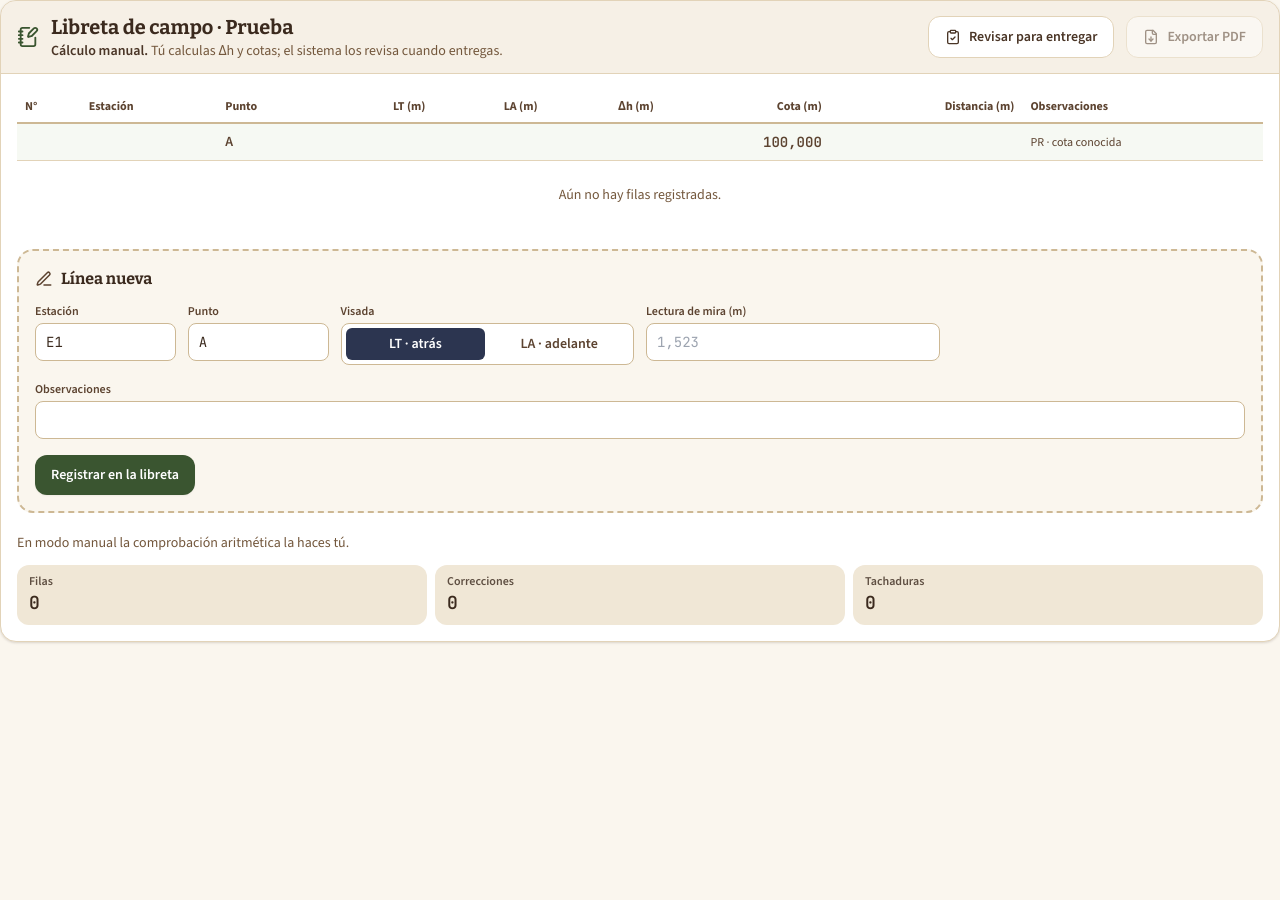
CP-03 · intentar corregir tachando una celda › tachar igual resta 20 XP y deja el valor anterior tachado
Step 1. Type "1,500" into the field labelled "Lectura de mira (m)" → (793, 342), box [646,323,940,361]
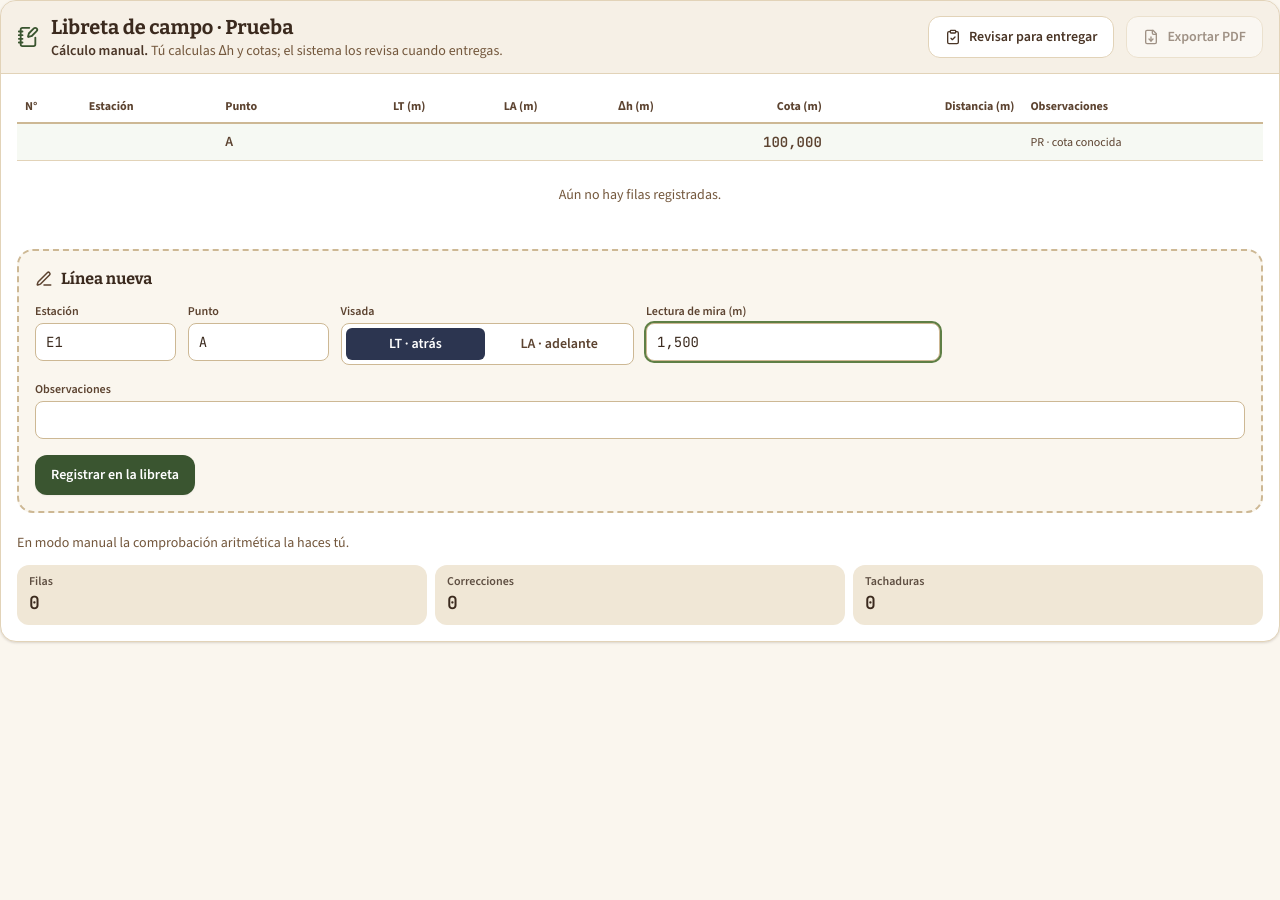
Step 2. Click the button "Registrar en la libreta" → (115, 475), box [35,455,195,495]
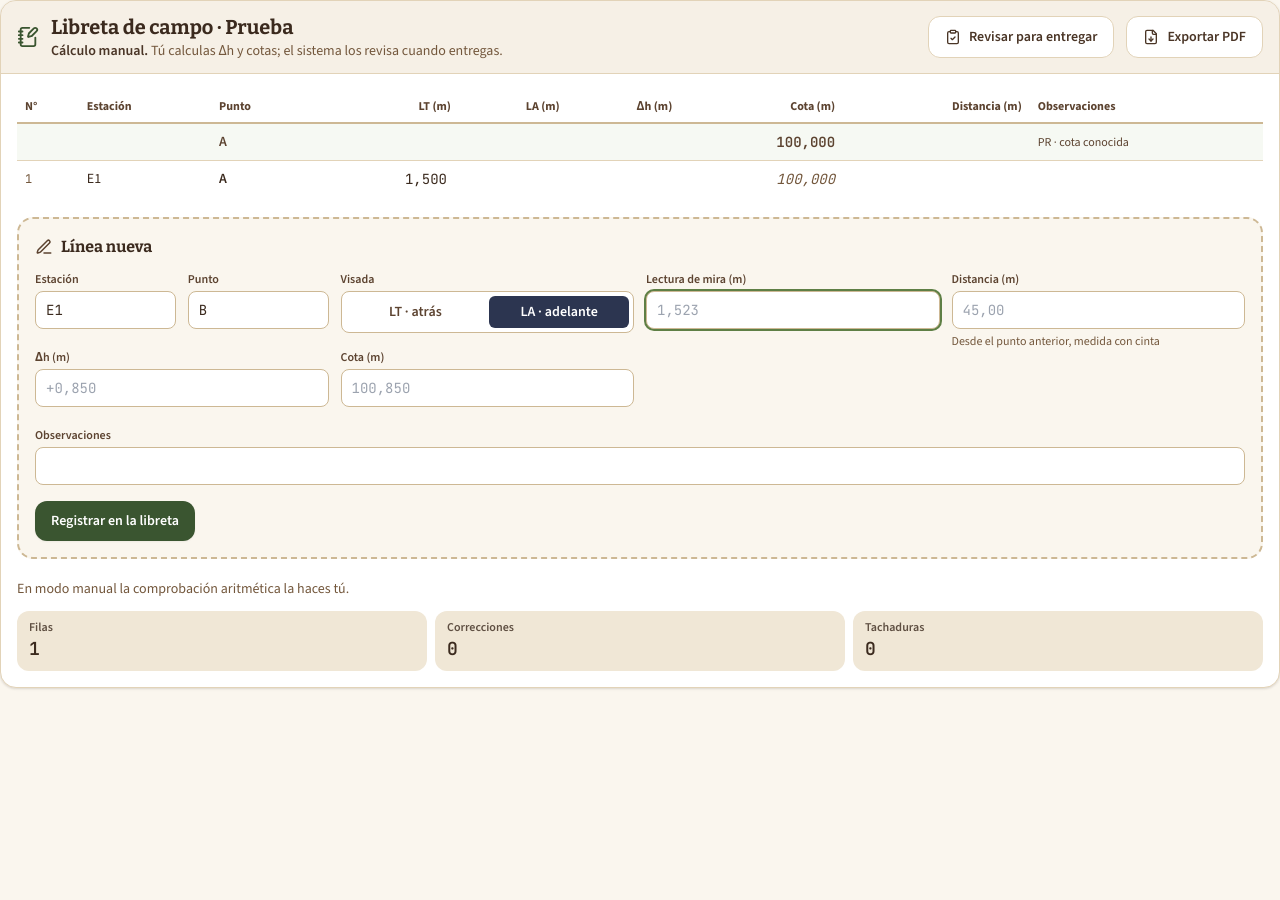
Step 3. Click the button named "Fila 1, lectura: 1,500. Registrada." → (426, 179), box [401,169,451,189]
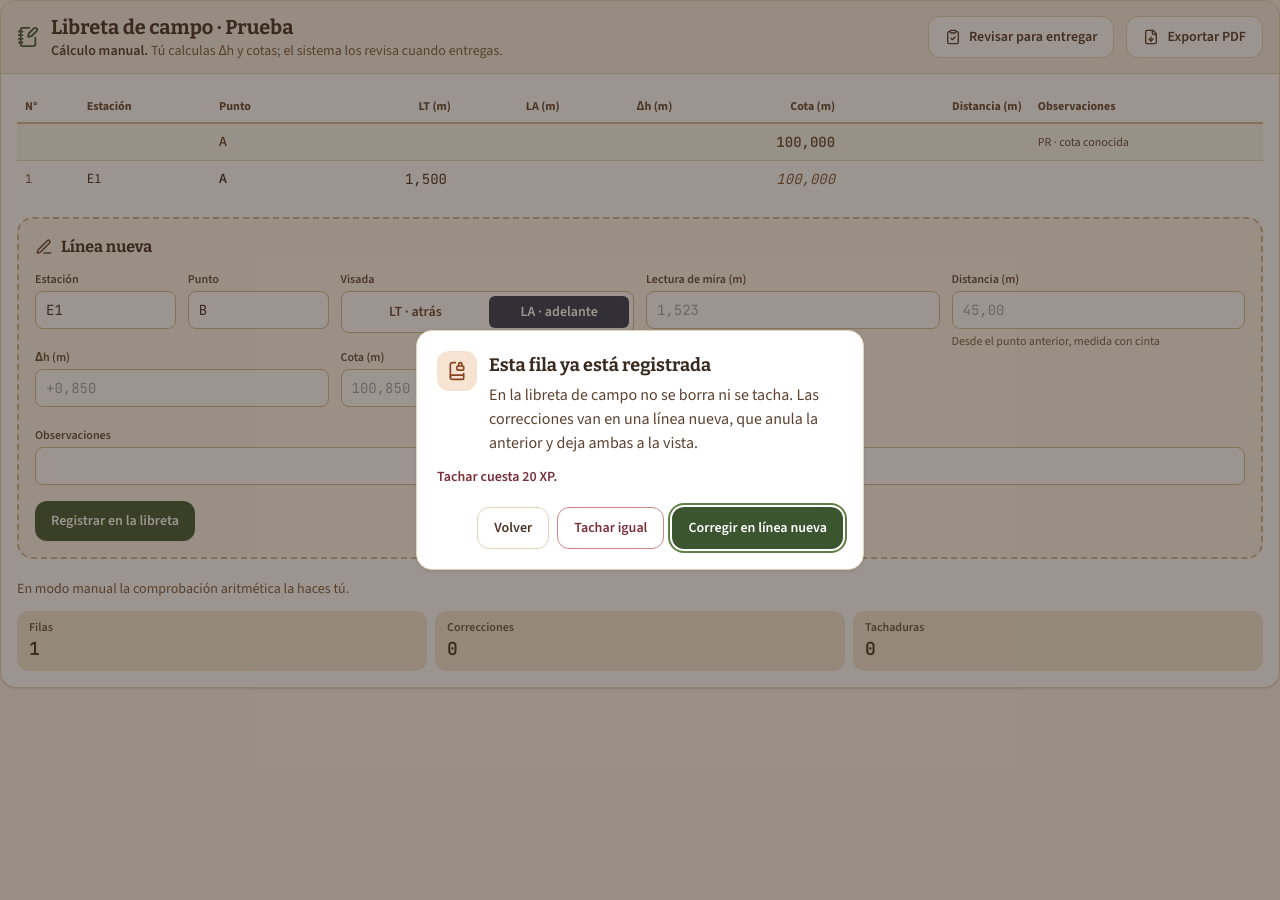
Step 4. Click the button "Tachar igual" → (611, 528), box [557,507,664,549]
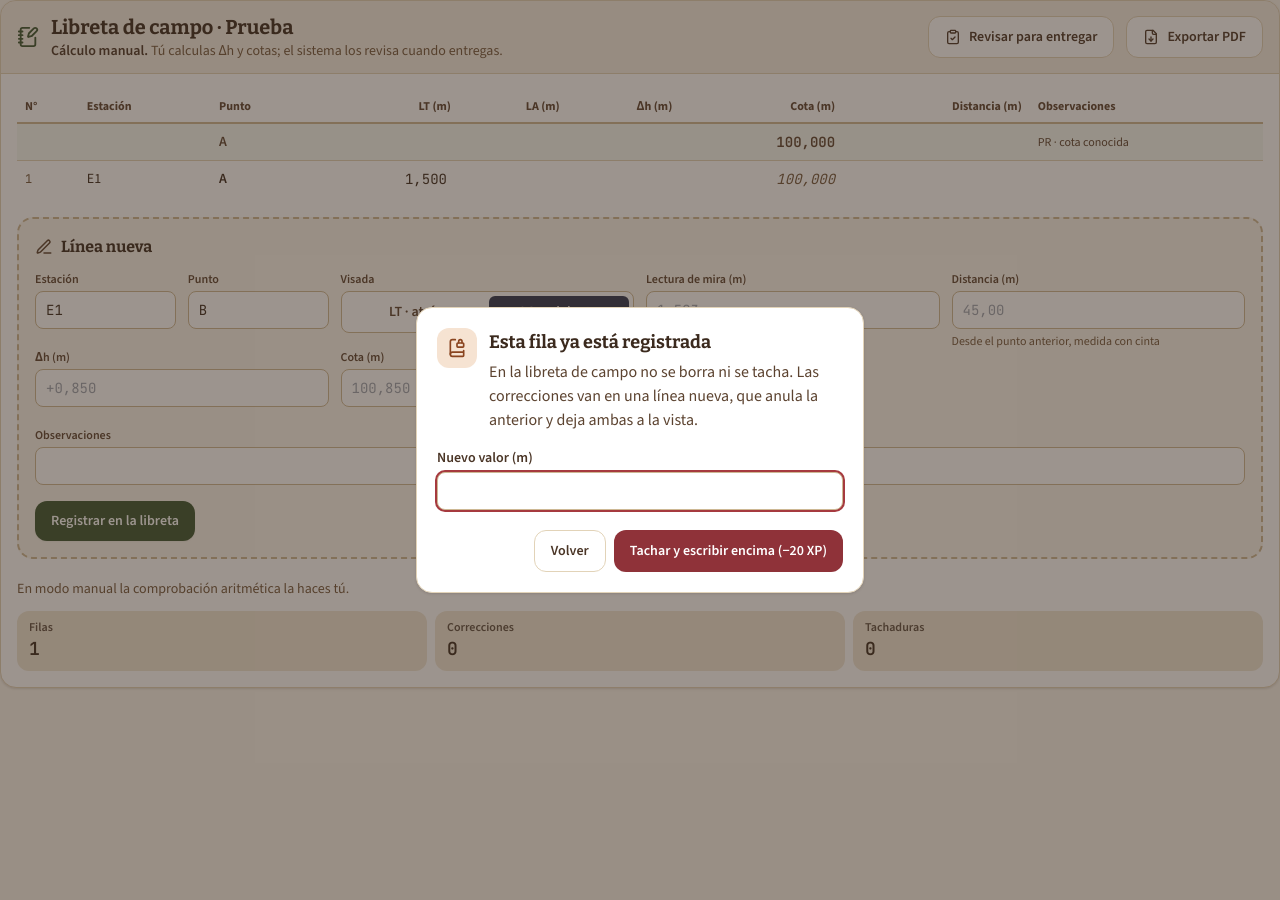
Step 5. Type "1,501" into the field labelled "Nuevo valor (m)" → (640, 491), box [437,472,843,510]
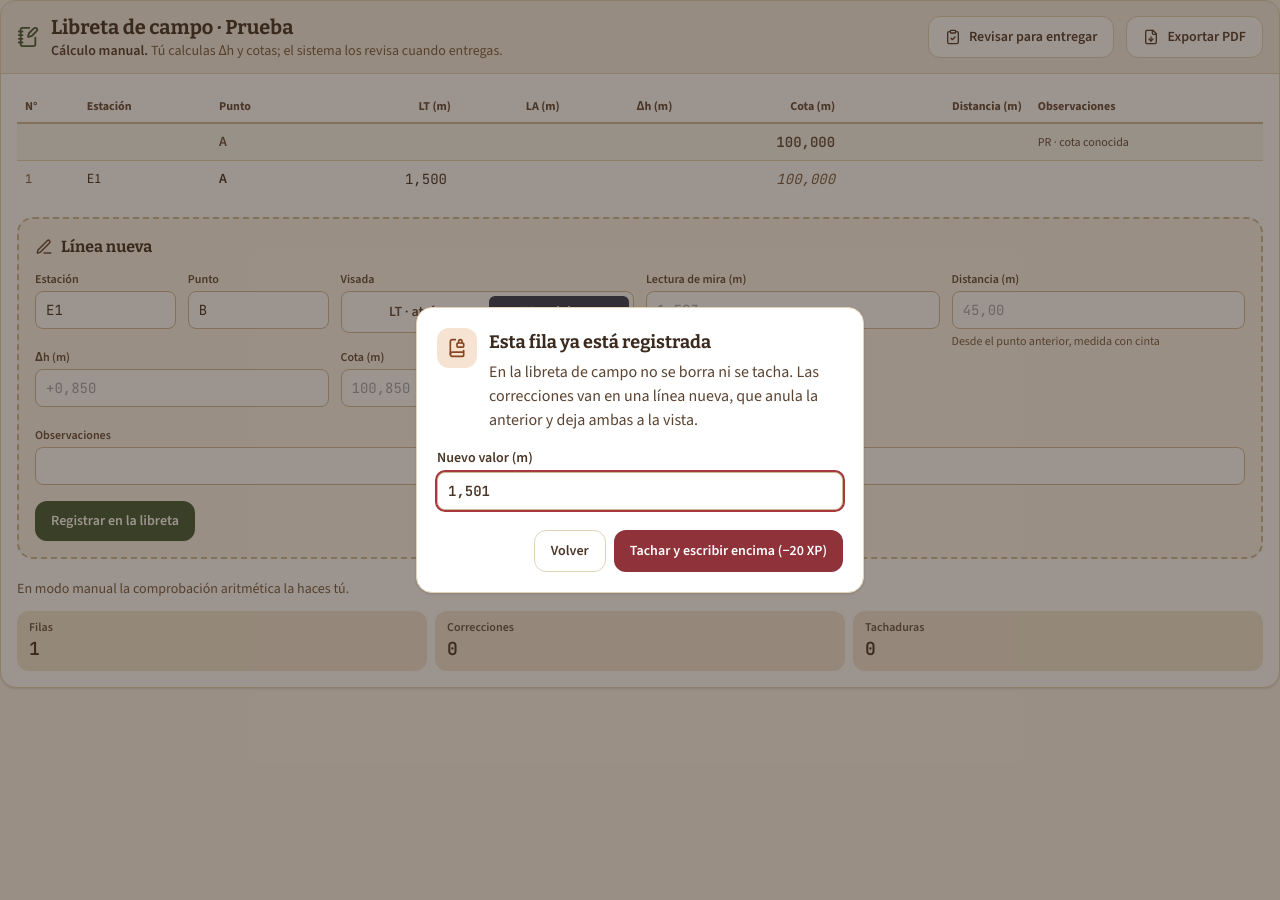
Step 6. Click the button "Tachar y escribir encima (−20 XP)" → (728, 551), box [614,530,843,572]
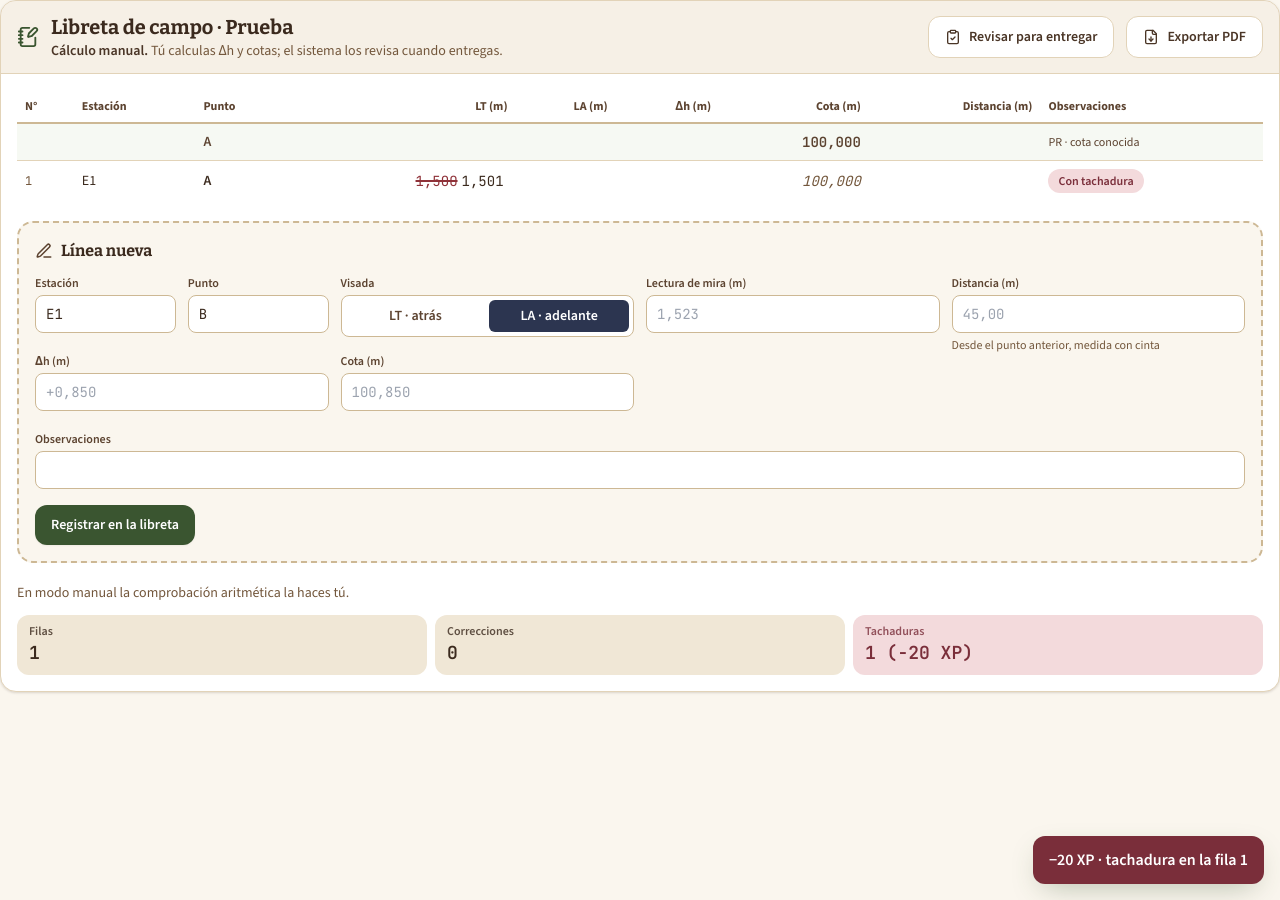
Expected: the text "1,500" is shown, [416,172,458,190]
Expected: the text "−20 XP · tachadura en la fila 1" is shown, [1033,836,1264,884]
Expected: the text "Con tachadura" is shown, [1048,169,1144,193]
